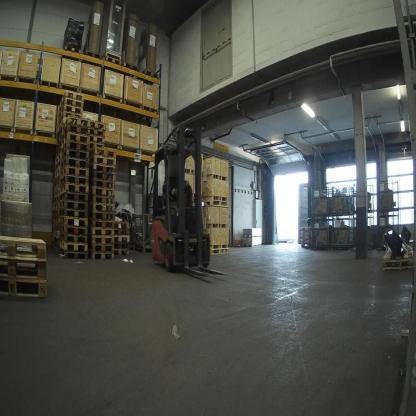forklift: (143, 115, 230, 286)
pallet: (2, 276, 48, 303), (1, 237, 47, 259), (0, 258, 48, 279), (380, 246, 413, 274), (57, 98, 84, 115), (57, 89, 83, 104), (103, 52, 122, 71), (58, 241, 88, 253), (120, 57, 140, 74), (63, 158, 89, 171), (61, 164, 88, 176), (58, 249, 87, 260), (62, 150, 91, 161), (57, 113, 81, 126), (63, 43, 84, 57), (59, 209, 88, 219), (59, 200, 88, 210), (65, 125, 89, 137), (62, 176, 88, 187), (87, 226, 113, 237), (58, 104, 81, 116), (64, 134, 89, 145), (59, 226, 86, 236), (61, 217, 88, 227), (59, 232, 85, 242), (90, 180, 116, 190), (83, 47, 103, 60), (88, 211, 116, 220), (209, 246, 230, 258), (143, 69, 161, 83), (91, 147, 116, 157), (61, 192, 88, 201), (64, 144, 91, 153), (66, 118, 90, 128), (88, 244, 114, 253), (88, 196, 116, 204), (89, 163, 116, 171), (201, 200, 228, 208), (61, 185, 89, 192), (89, 157, 117, 164), (88, 190, 116, 197), (56, 119, 66, 137), (90, 122, 108, 132), (87, 205, 115, 211), (87, 220, 115, 226), (89, 237, 113, 244), (89, 172, 116, 178), (91, 253, 114, 260), (301, 243, 316, 253), (52, 181, 61, 195), (113, 249, 128, 257), (113, 242, 130, 249), (87, 129, 103, 136), (53, 153, 62, 165), (89, 144, 107, 150), (57, 130, 65, 143), (113, 235, 129, 241), (114, 222, 129, 228), (54, 174, 62, 185), (56, 140, 63, 152), (90, 136, 104, 142), (113, 229, 129, 234), (297, 226, 309, 232), (300, 236, 310, 243), (53, 210, 61, 218), (55, 161, 62, 170), (52, 196, 61, 203), (298, 232, 310, 237), (52, 203, 60, 210), (52, 223, 59, 231), (57, 148, 62, 158), (56, 167, 61, 177), (54, 189, 59, 198), (53, 231, 59, 238), (52, 218, 60, 223), (53, 238, 57, 246), (53, 248, 57, 254)
stillage: (132, 212, 157, 258), (379, 174, 403, 216), (115, 207, 136, 252), (377, 213, 400, 254), (332, 185, 358, 218), (308, 184, 332, 219), (333, 218, 357, 250), (356, 215, 376, 251), (309, 219, 332, 248), (353, 182, 375, 211)
